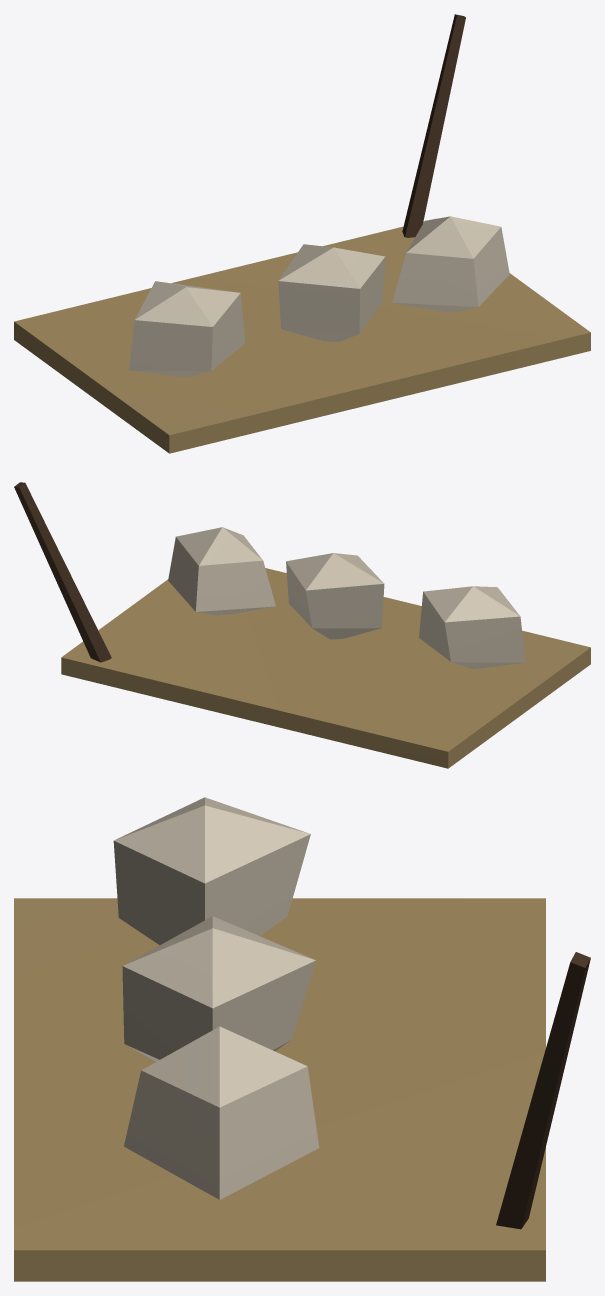
Rendered from caral_cotton_lod1.glb.
The picture shows the model from 3 angles, top to bottom: view 1: azimuth 30°, elevation 25°; view 2: azimuth 150°, elevation 25°; view 3: azimuth 270°, elevation 25°; orthographic projection. The views are drawn at different scales.
Visible parts, largest first — view 1: GEO-Props_cotton_LOD1; view 2: GEO-Props_cotton_LOD1; view 3: GEO-Props_cotton_LOD1.
Part boxes in pixels (bbox=[...]): GEO-Props_cotton_LOD1: bbox=[14, 14, 590, 453]; GEO-Props_cotton_LOD1: bbox=[14, 482, 590, 768]; GEO-Props_cotton_LOD1: bbox=[14, 797, 590, 1281].
Bounding box in the file's own units: 0.7882 × 0.339 × 0.4989.
